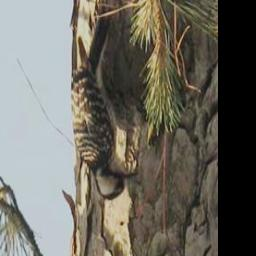Woodpecker: (70, 12, 140, 203)
